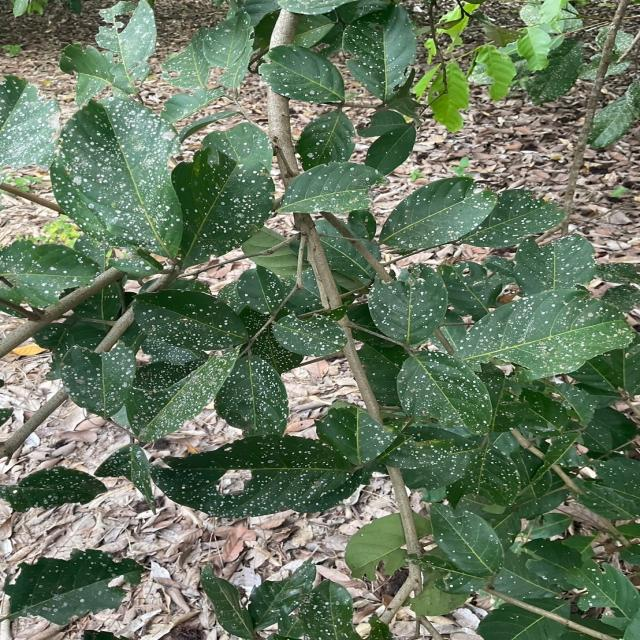Algal Leaf Spot: (10, 80, 623, 549)
